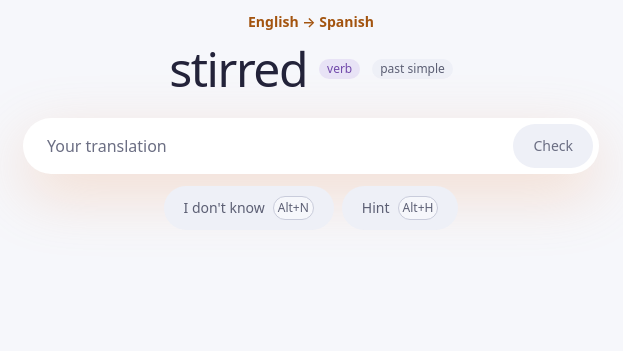
Test: a hint on a word › an answer given without one says so, and no hint is offered where none is given
The image size is (623, 351).
Type "remover" into the field labelled "Your translation" at (276, 146), box [47,124,505,168]
Then press Enter
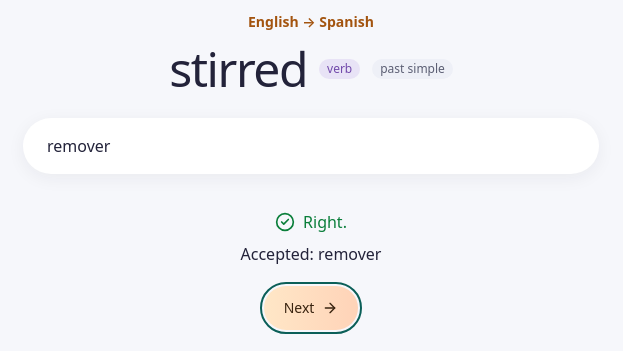
Expected: the text "Right." is shown, [275,210,347,234]
